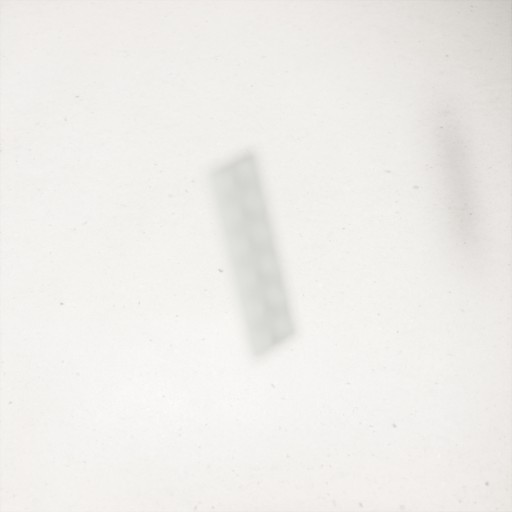lego: (203, 148, 301, 363)
